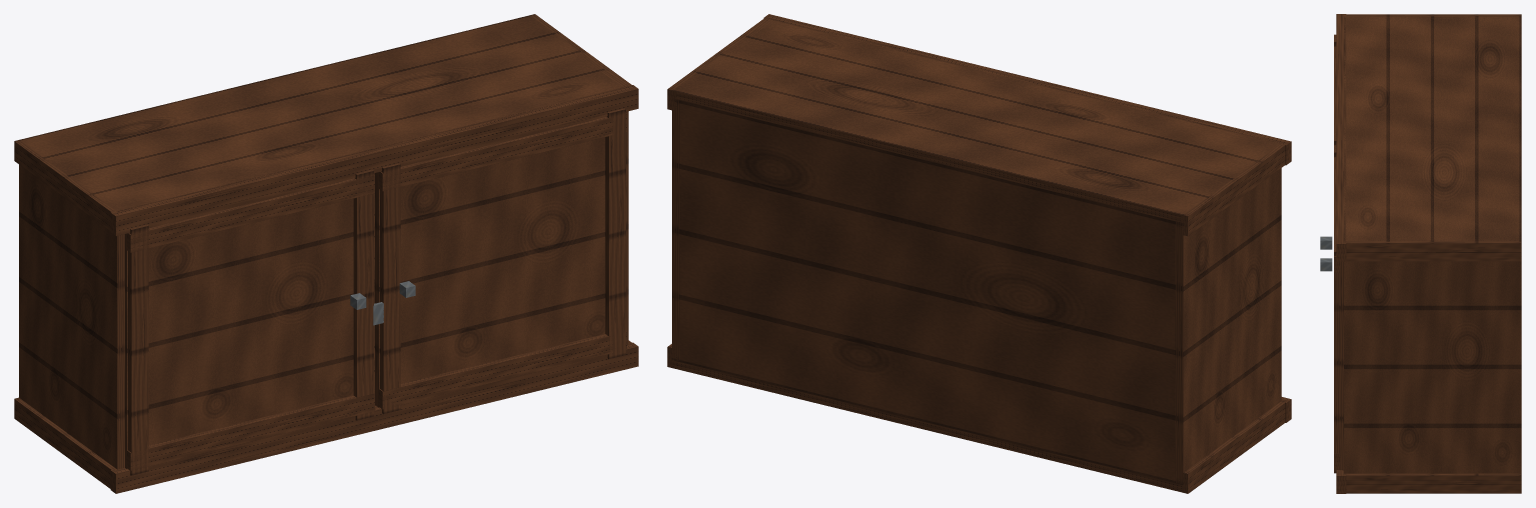
Rendered from cupboard.obj.
The picture shows the model from 3 angles, left to right: view 1: azimuth 30°, elevation 25°; view 2: azimuth 150°, elevation 25°; view 3: azimuth 270°, elevation 25°; orthographic projection. The views are drawn at different scales.
Visible parts, largest first — view 1: material_5, material_3; view 2: material_5; view 3: material_5, material_3.
Boxes of the visible parts, bbox=[...] form: material_5: bbox=[14, 14, 638, 493]; material_3: bbox=[350, 281, 415, 325]; material_5: bbox=[667, 14, 1291, 493]; material_5: bbox=[1334, 14, 1521, 493]; material_3: bbox=[1320, 236, 1332, 271].
Bounding box in the file's own units: 44.16 × 22.4 × 16.32.
2 materials, 2 textured.
